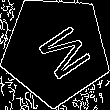M_SW: (23, 17, 89, 83)
